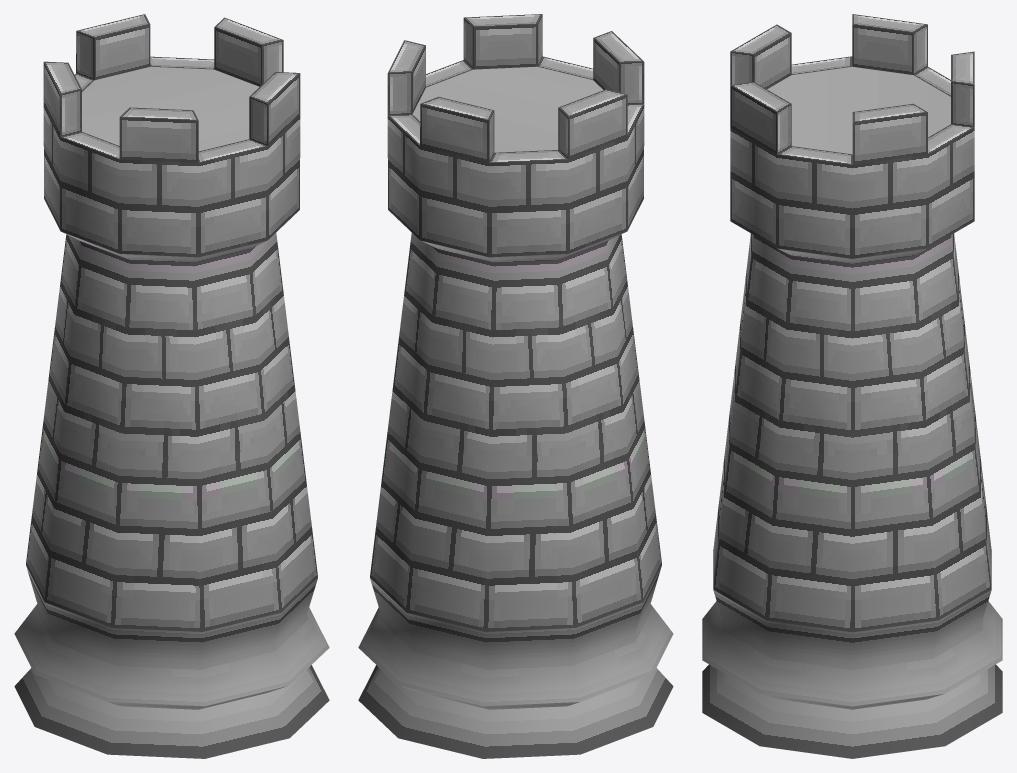
The model's file is rmk_chs_rook_mtl.dae.
3 views of the same model, side by side, from view 1: azimuth 30°, elevation 25°; view 2: azimuth 150°, elevation 25°; view 3: azimuth 270°, elevation 25° (orthographic).
Parts seen in each view (by area): view 1: rmk_chs_rook_mtl; view 2: rmk_chs_rook_mtl; view 3: rmk_chs_rook_mtl.
Part boxes in pixels (<box>): rmk_chs_rook_mtl: <box>14,14,329,758</box>; rmk_chs_rook_mtl: <box>358,14,673,758</box>; rmk_chs_rook_mtl: <box>702,14,1002,758</box>.
Size of the model in its own units: 25.6 by 55.78 by 24.35.
Materials: 1 (1 with a texture image).
